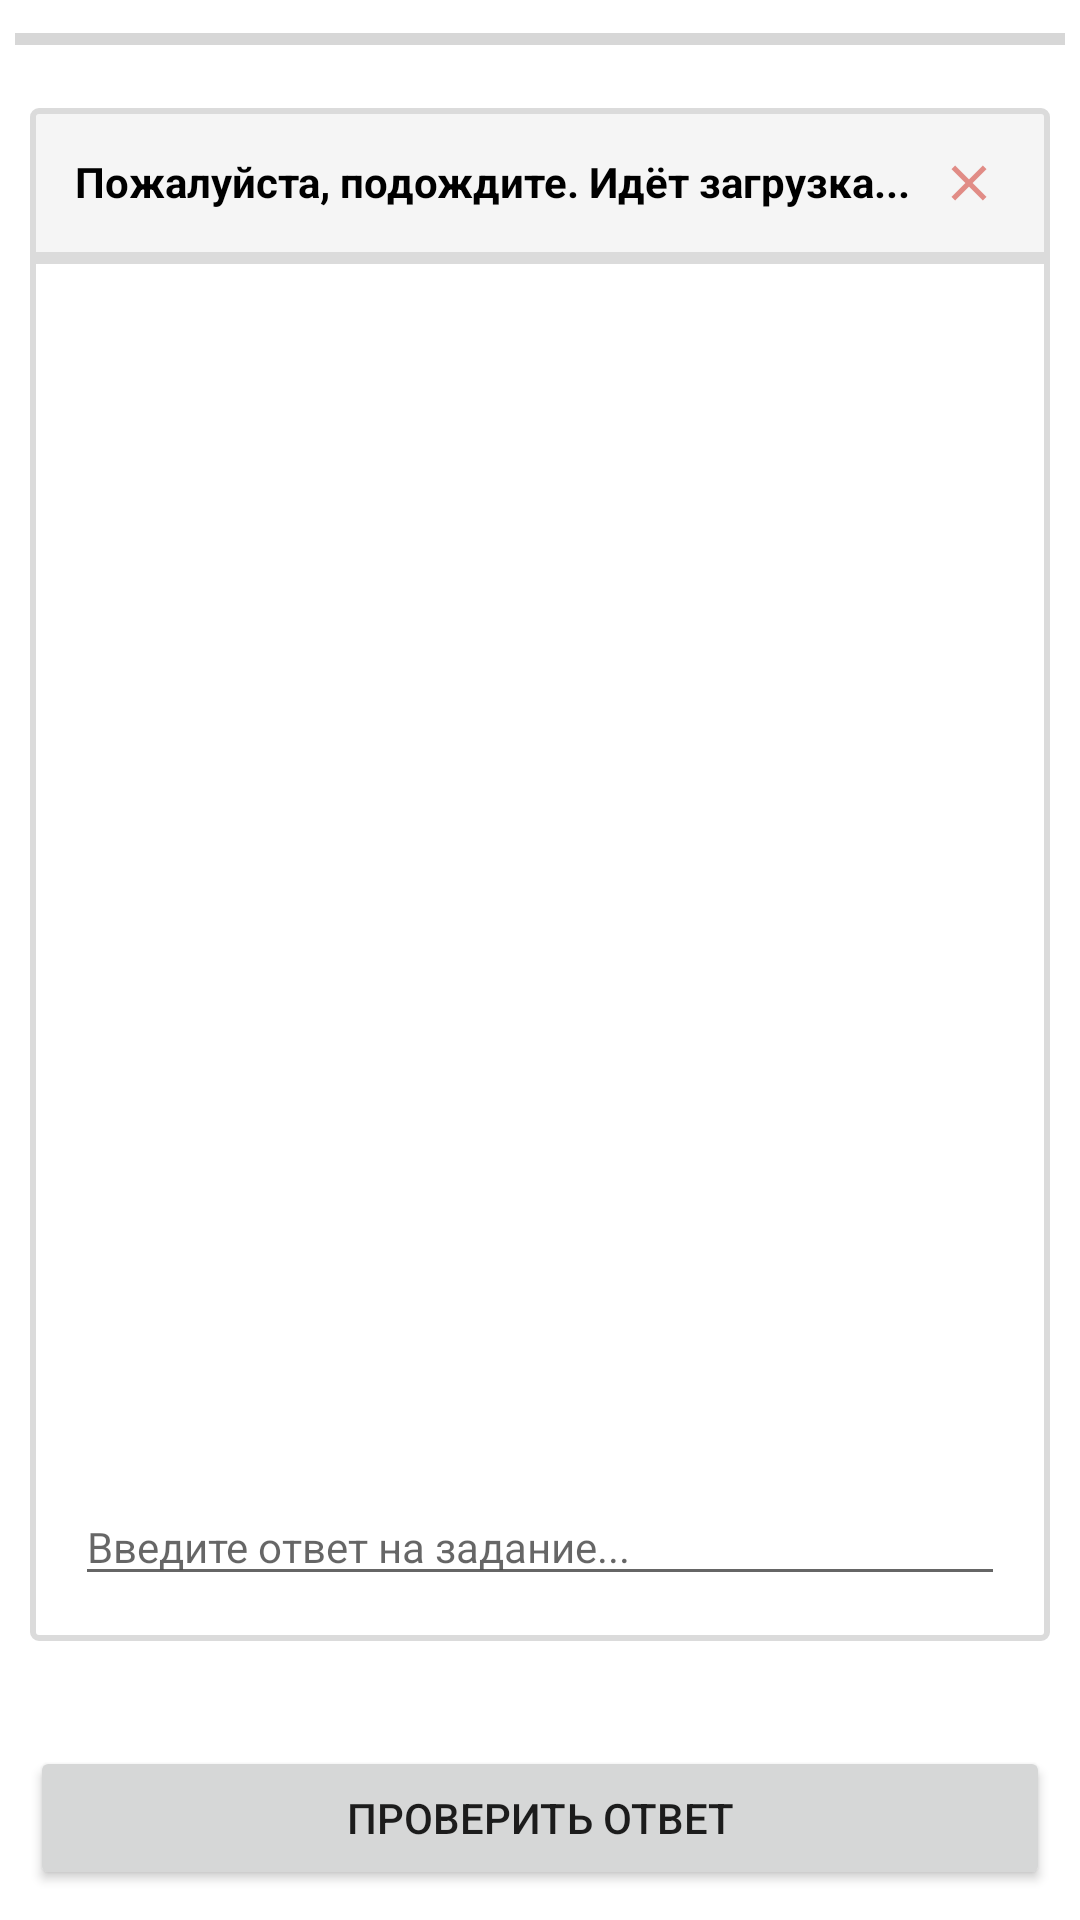

Icon bounding boxes for this 1080x1920 phone screenshot, format (x1, y1, x2, y2):
nodone: (952, 166, 986, 200)
